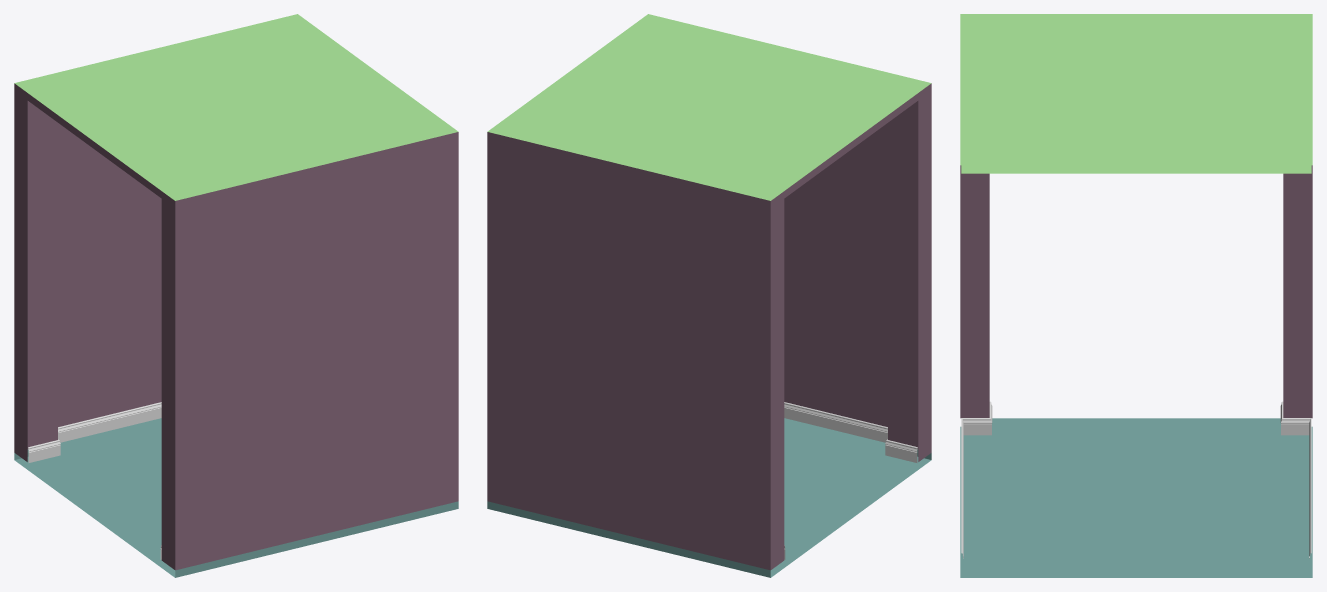
Rendered from Corridor_endpiece.fbx.
3 renders of one model, left to right at view 1: azimuth 30°, elevation 25°; view 2: azimuth 150°, elevation 25°; view 3: azimuth 270°, elevation 25°, orthographic. The views are drawn at different scales.
Parts seen in each view (by area): view 1: Corridor_2x2_endpiece; view 2: Corridor_2x2_endpiece; view 3: Corridor_2x2_endpiece.
Boxes of the visible parts, x1,y1,x2,y2 form: Corridor_2x2_endpiece: (14,14,458,577); Corridor_2x2_endpiece: (487,14,931,577); Corridor_2x2_endpiece: (960,14,1312,577).
Size of the model in its own units: 1.97 by 2.5 by 1.94.
